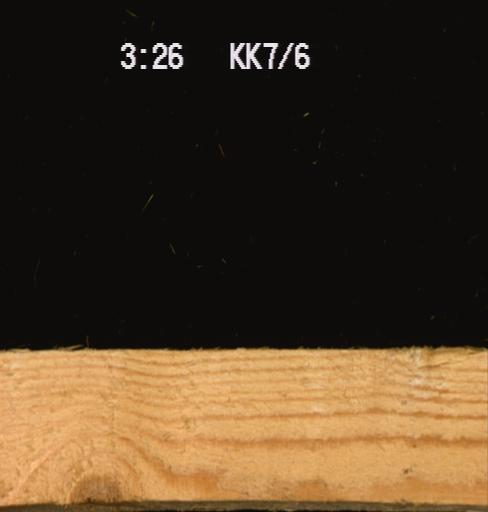edge_knot: (64, 456, 124, 505)
